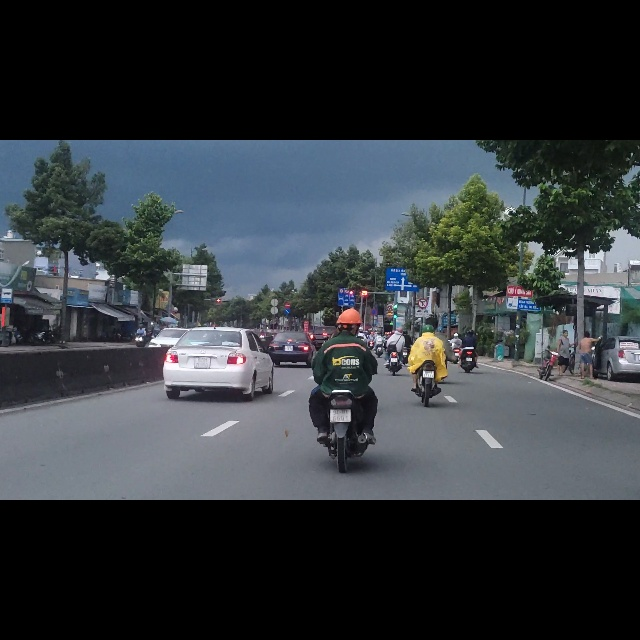bien_hieu_lenh: (338, 271, 354, 296), (1, 263, 12, 290), (418, 282, 428, 300), (284, 300, 290, 310), (285, 290, 291, 299)
